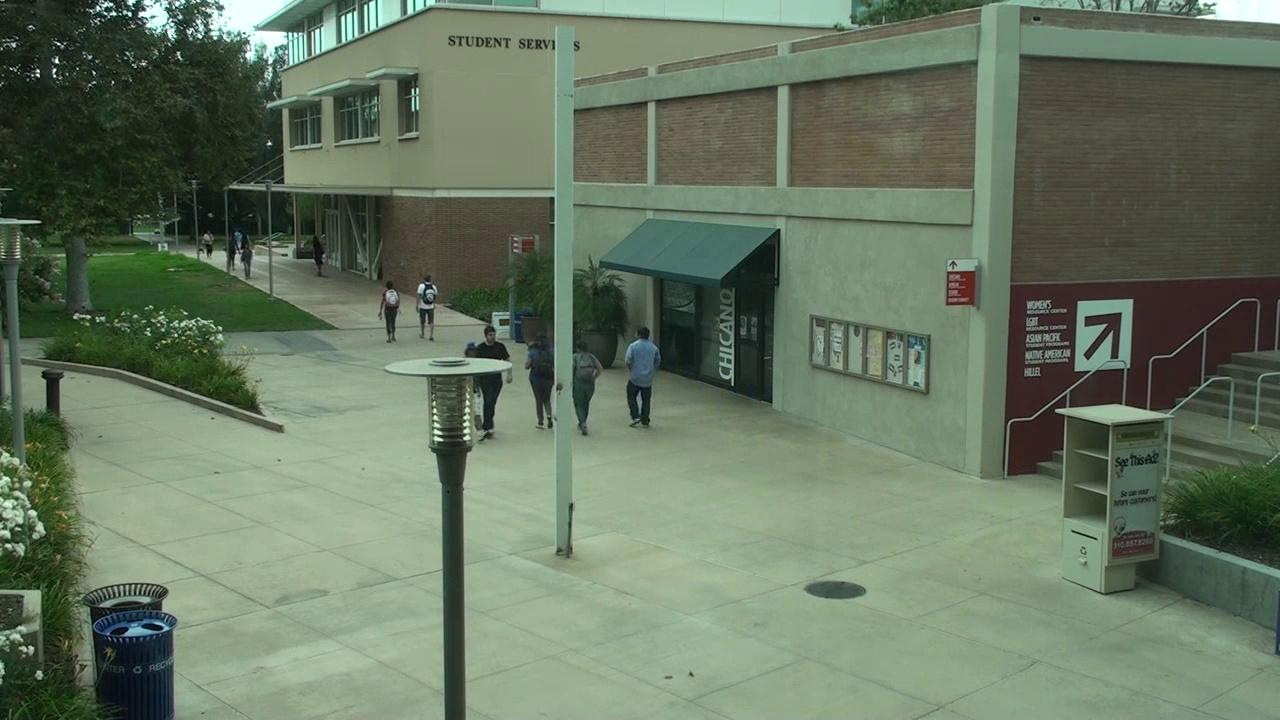person: (626, 326, 660, 427), (572, 340, 602, 435), (525, 333, 554, 427), (476, 377, 501, 439), (378, 281, 400, 341), (419, 274, 437, 340), (475, 326, 510, 359), (240, 237, 252, 278), (312, 236, 324, 276), (464, 343, 476, 356)
